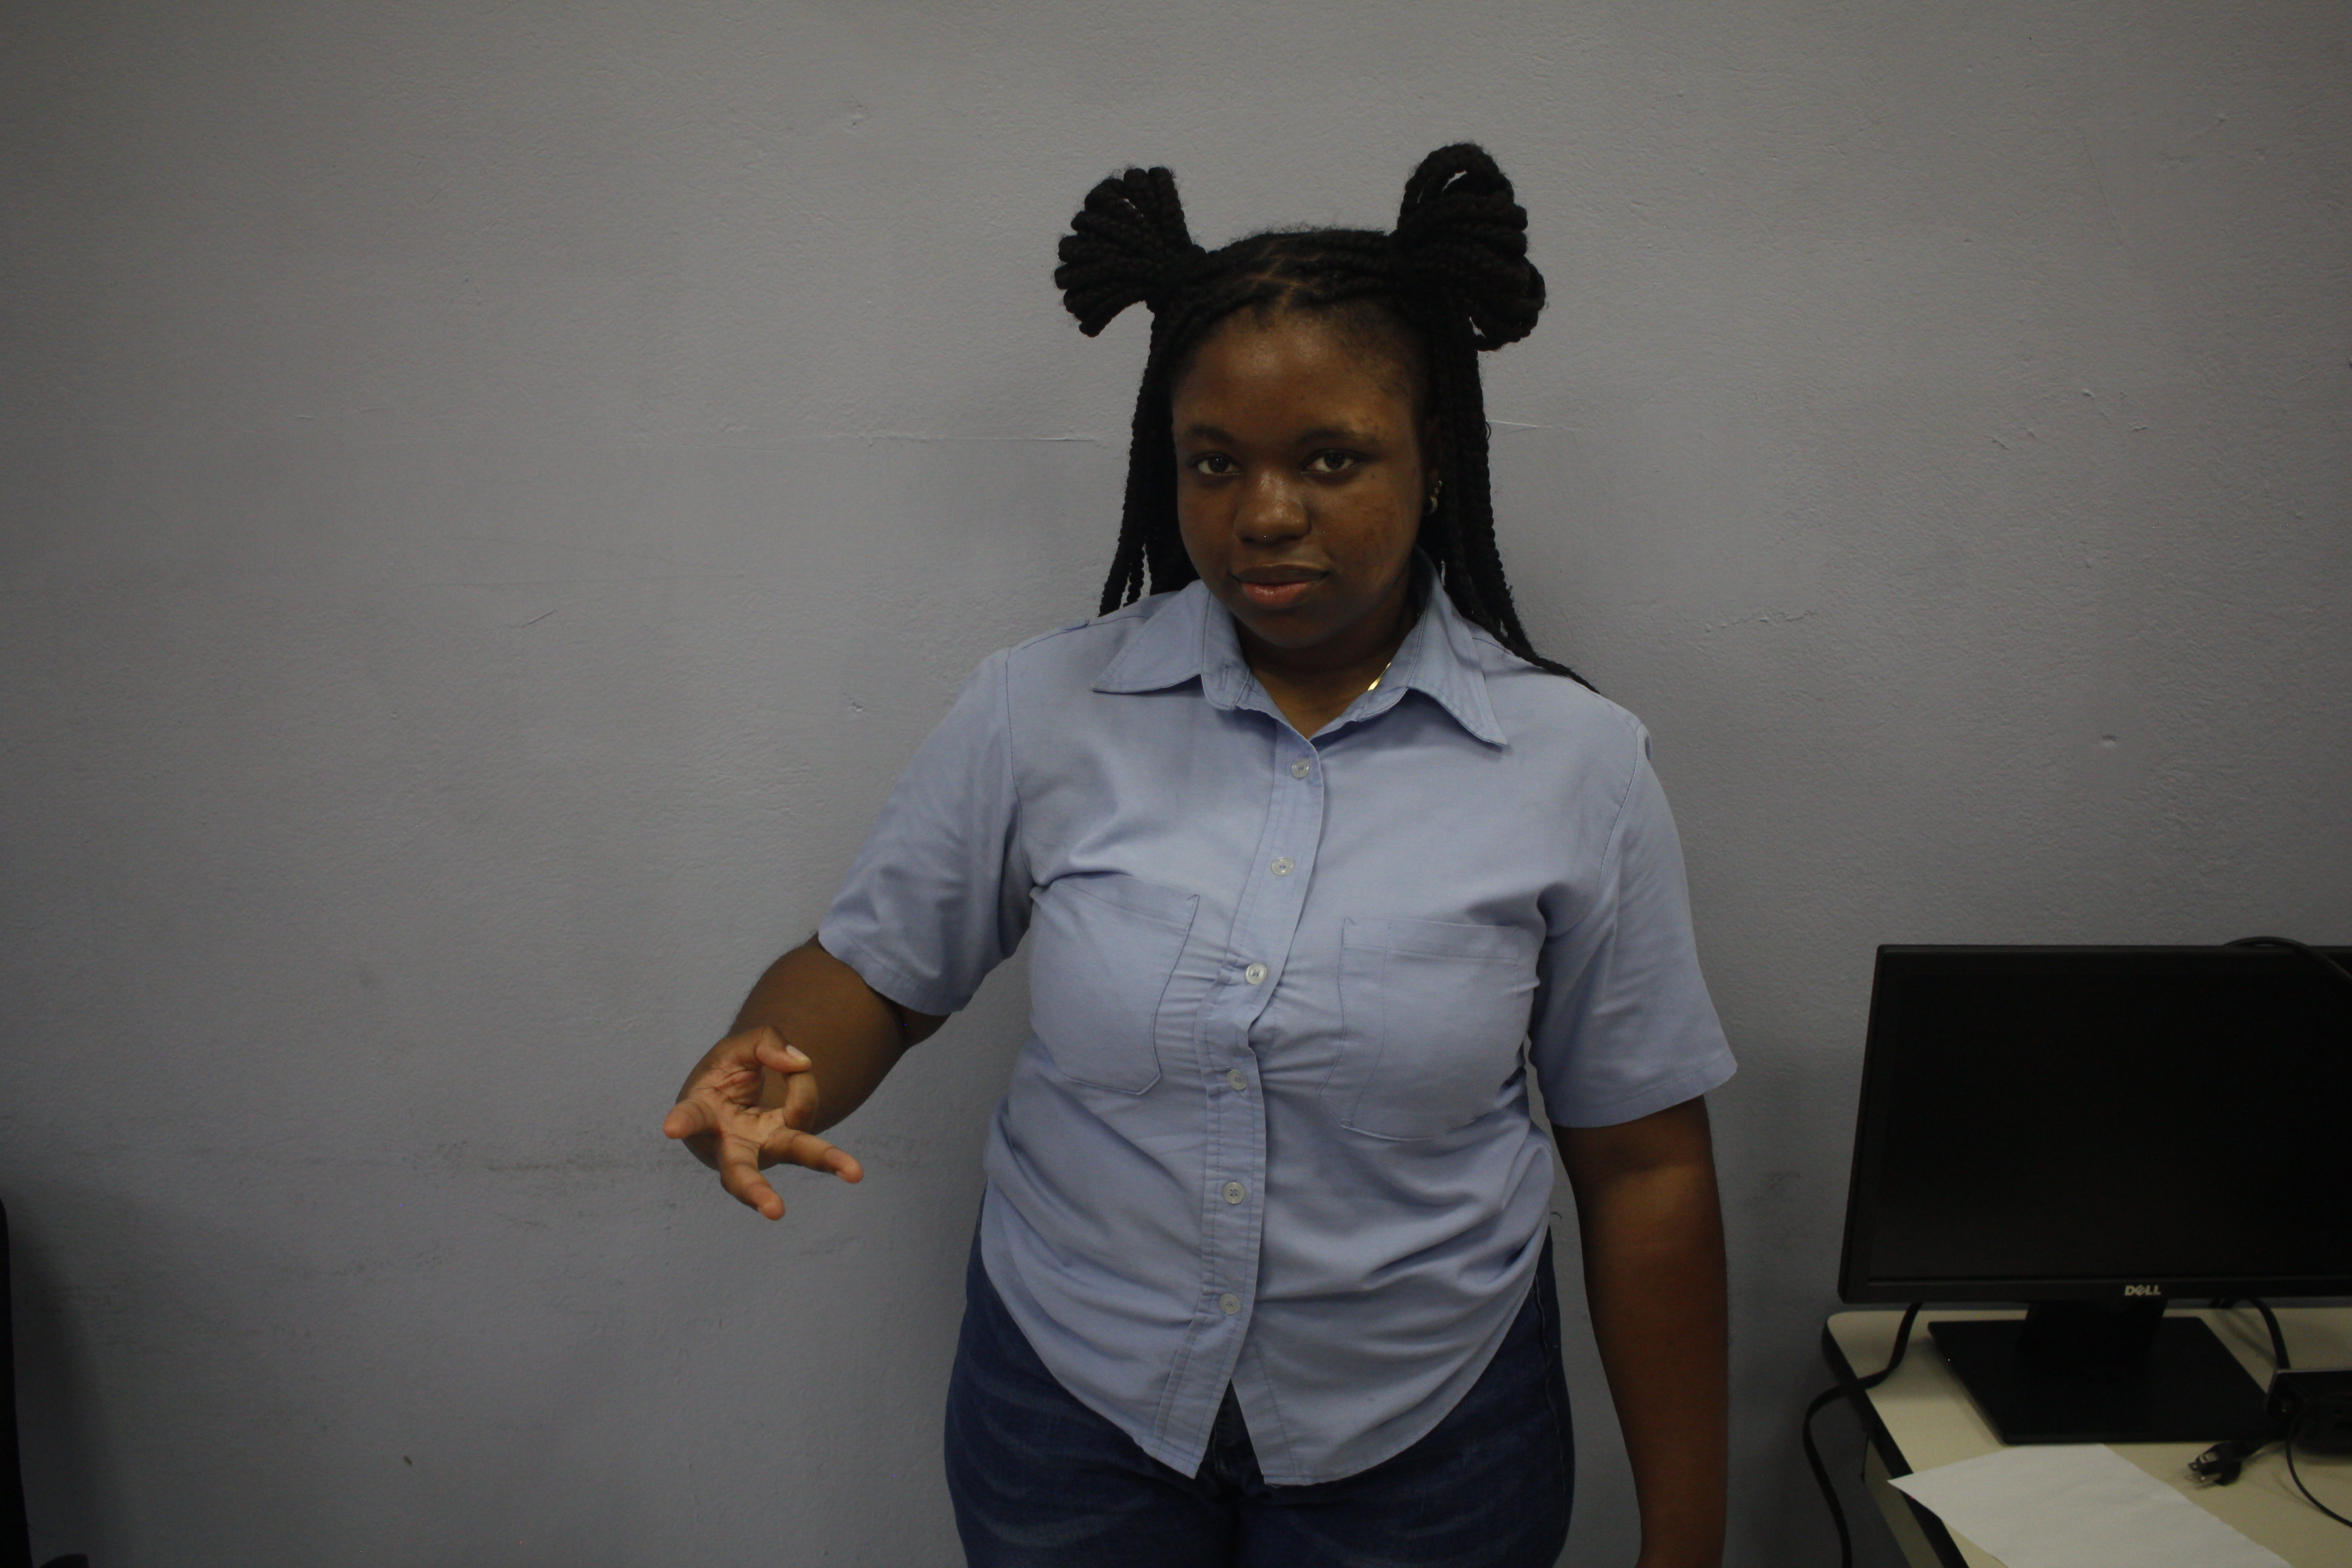you are welcome: (647, 1008, 875, 1234)
